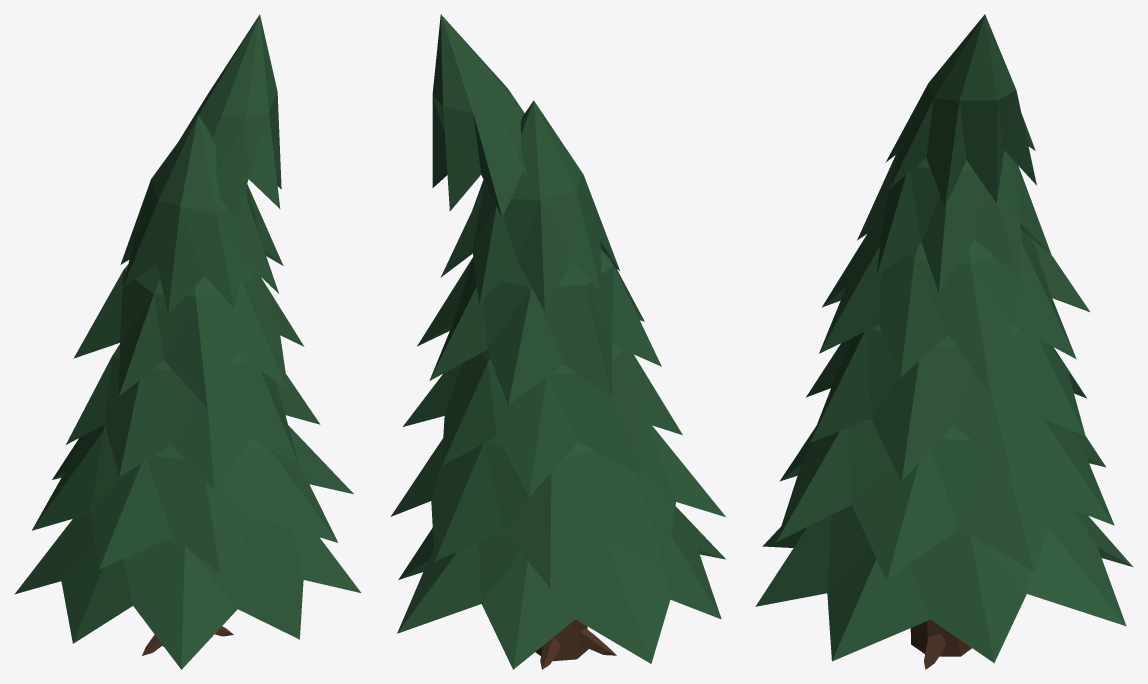
Rendered from Veg_Kiefer_B.fbx.
3 renders of one model, left to right at view 1: azimuth 30°, elevation 25°; view 2: azimuth 150°, elevation 25°; view 3: azimuth 270°, elevation 25°, orthographic. The views are drawn at different scales.
Visible parts, largest first — view 1: Veg_Kiefer_B; view 2: Veg_Kiefer_B; view 3: Veg_Kiefer_B.
Boxes of the visible parts, x1,y1,x2,y2 form: Veg_Kiefer_B: (15,14,360,669); Veg_Kiefer_B: (390,14,725,669); Veg_Kiefer_B: (755,14,1133,669).
Size of the model in its own units: 2.96 by 6 by 3.
